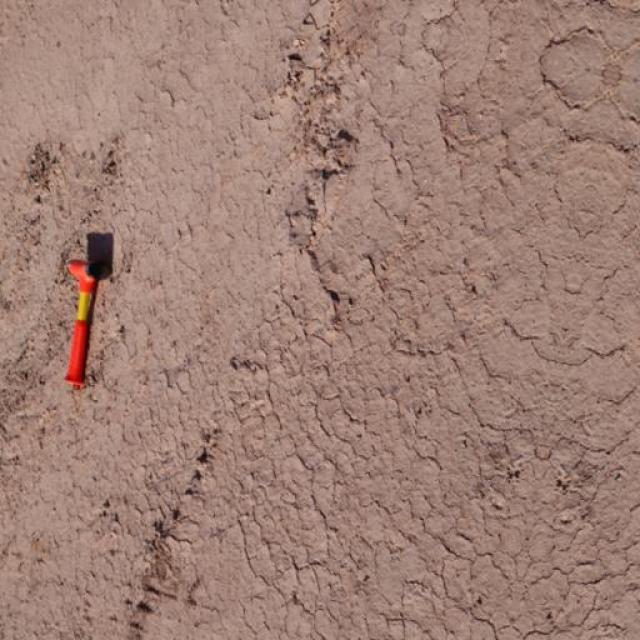mallet: (64, 257, 114, 387)
